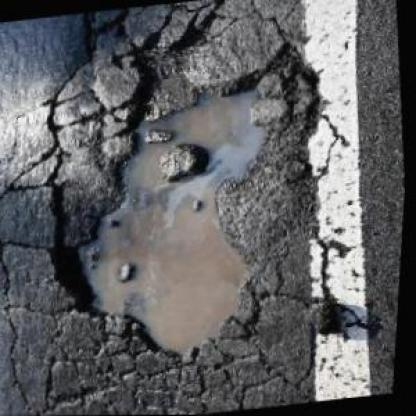pothole: (19, 36, 348, 379)
